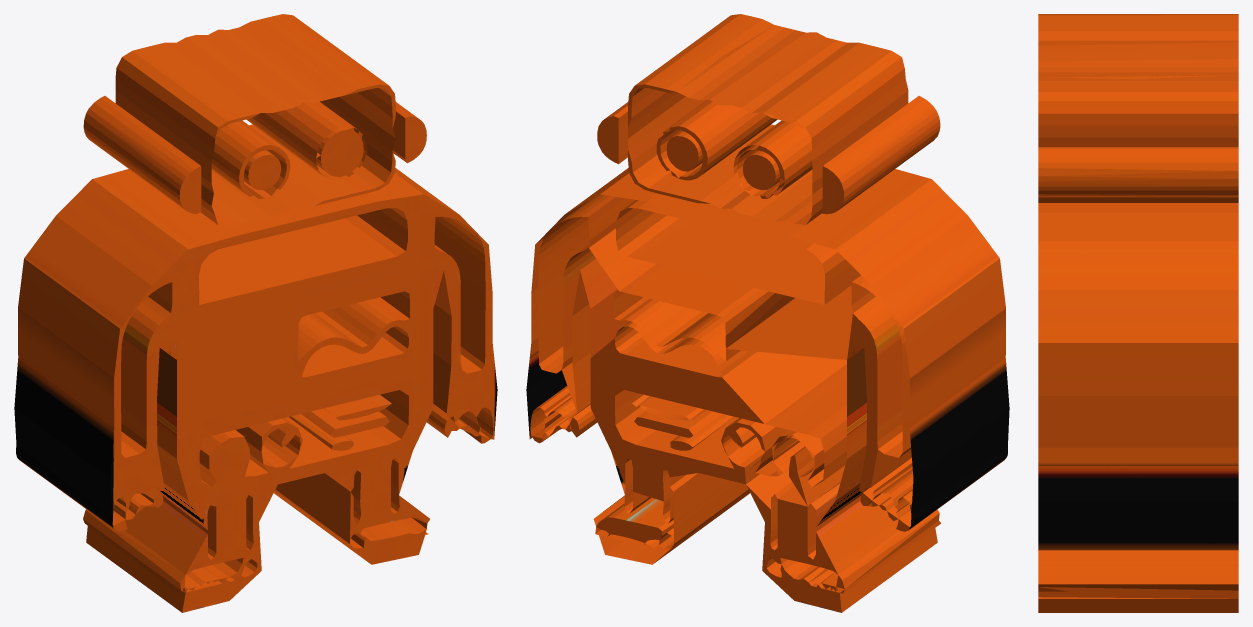
File: webdriver-io.glb
3 renders of one model, left to right at view 1: azimuth 30°, elevation 25°; view 2: azimuth 150°, elevation 25°; view 3: azimuth 270°, elevation 25°, orthographic. The views are drawn at different scales.
Visible parts, largest first — view 1: Curve; view 2: Curve; view 3: Curve.
Part boxes in pixels (<box>): Curve: <box>14,14,497,612</box>; Curve: <box>526,14,1009,612</box>; Curve: <box>1038,14,1238,612</box>.
Size of the model in its own units: 0.0116 by 0.0138 by 0.005.
1 material, 1 textured.
